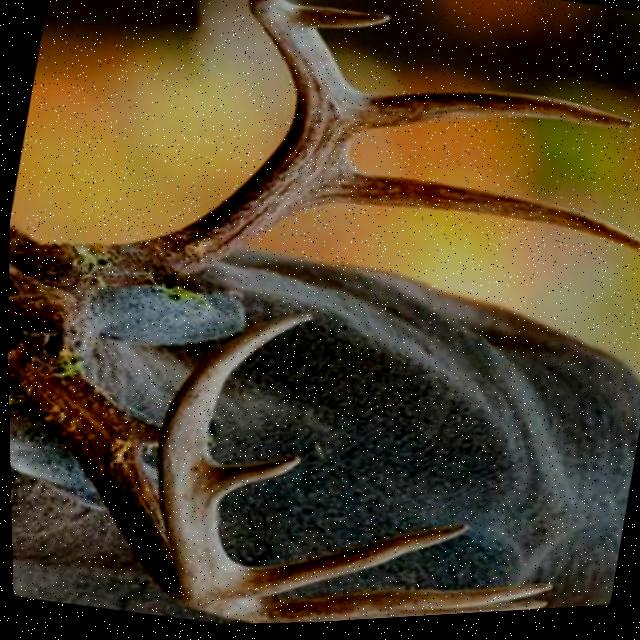L-F: (6, 315, 313, 626)
L-G3: (260, 589, 553, 626)
L-G4: (241, 528, 466, 600)
L-G5: (211, 458, 298, 503)
R-F: (136, 0, 359, 279)
R-G1: (311, 168, 640, 262)
R-G2: (356, 96, 636, 137)
R-G3: (288, 6, 393, 34)
